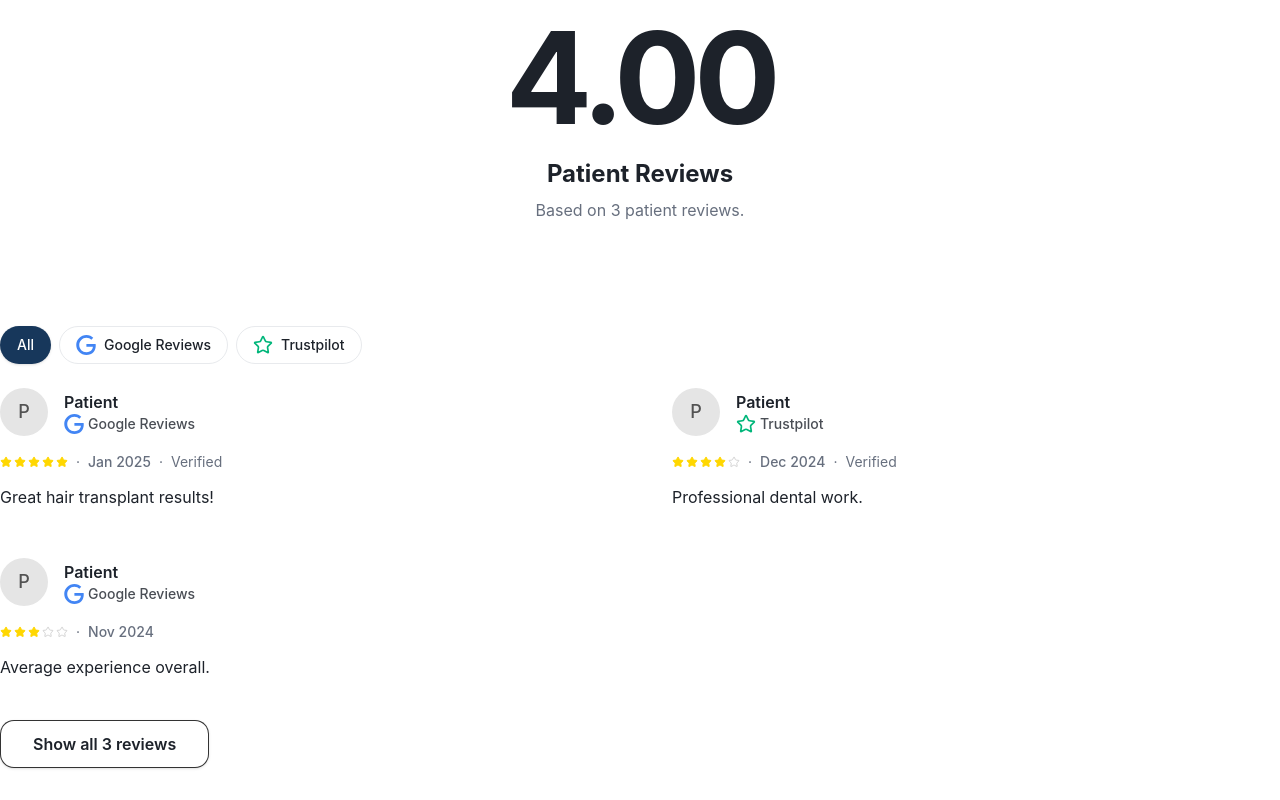
Test case: ReviewsSection modal search › shows no results message when search matches nothing
This screenshot has width=1280, height=800.
(page scrolled)
Note: Open the modal
Click the button "Show all 3 reviews". click: click(105, 744)
box: [0,720,209,768]
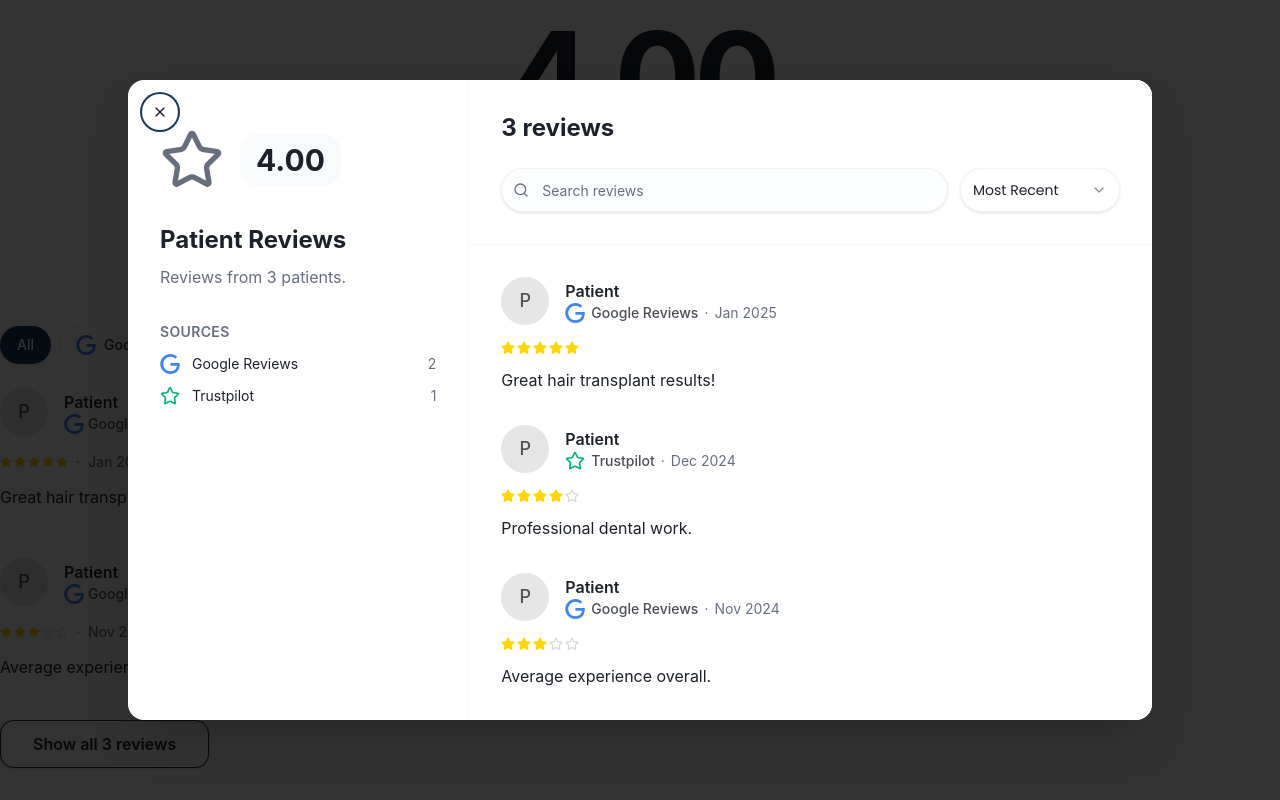
Note: Search for something that doesn't exist
Type "xyz123nonexistent" into the field with placeholder "Search reviews". click: (725, 190)
box: [501,168,948,212]
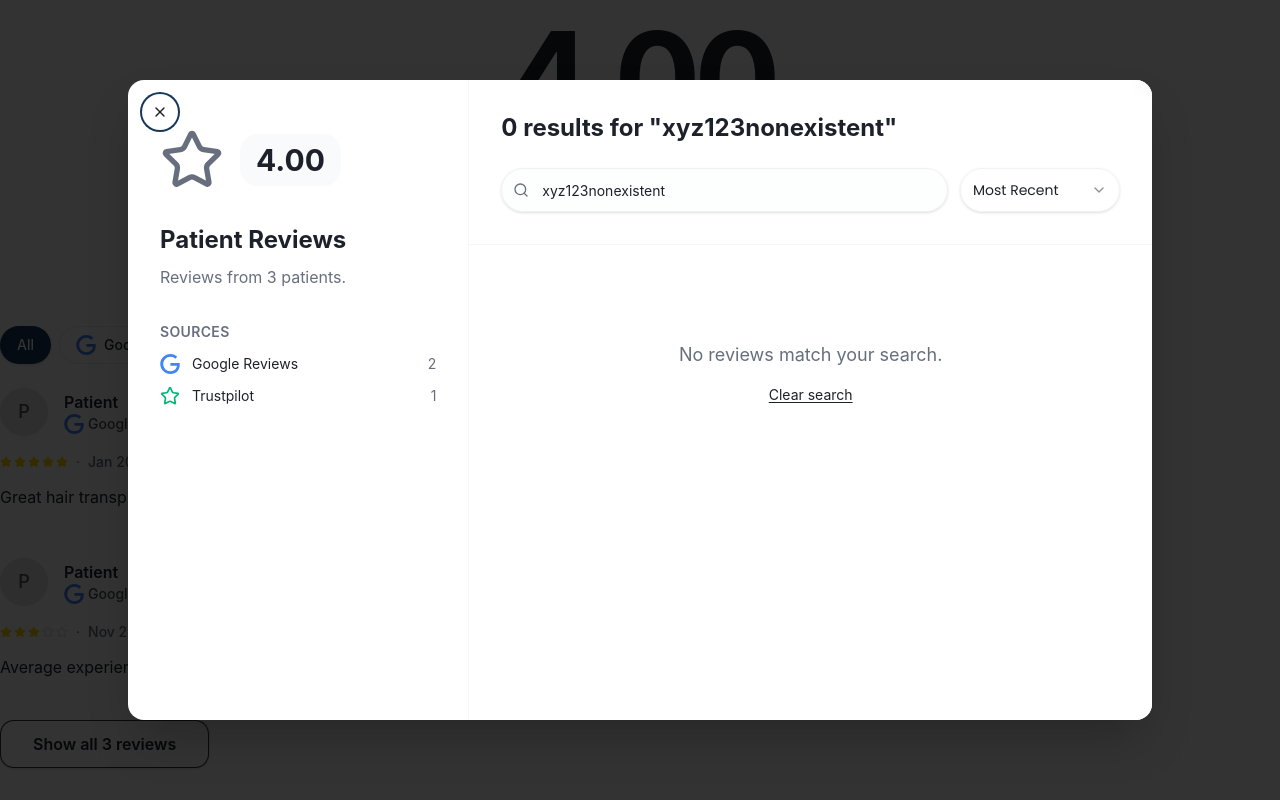
Expected: the text "No reviews match your search." is shown, [679,341,942,369]
